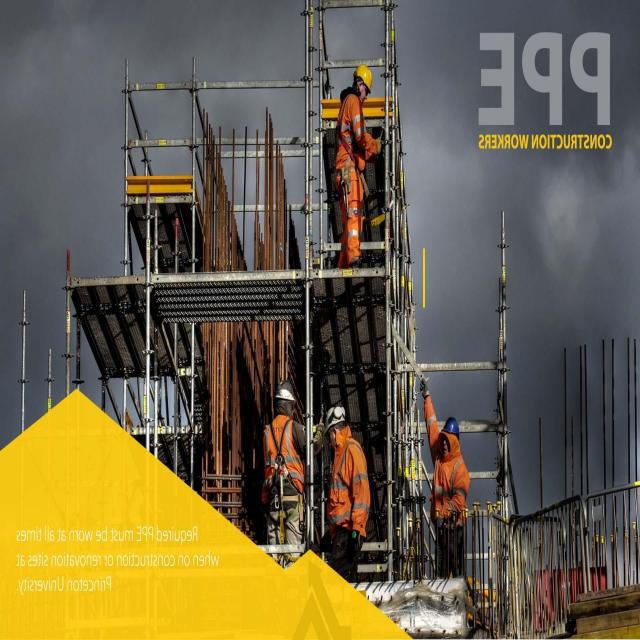Reflective-Jacket: (335, 88, 371, 261), (328, 433, 370, 536), (262, 414, 302, 512)
Safety-Helmet: (355, 61, 374, 91), (327, 404, 348, 428), (441, 416, 461, 439), (276, 380, 296, 402)
